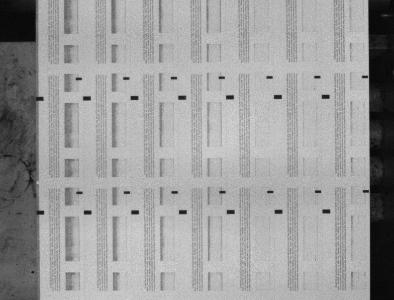backgroundclutter: (31, 271, 35, 274)
qblock: (36, 210, 45, 215), (178, 95, 187, 100), (322, 94, 330, 99), (179, 210, 188, 214), (131, 210, 140, 214), (322, 209, 331, 213), (130, 96, 139, 100), (226, 95, 235, 99), (36, 96, 43, 101), (227, 210, 235, 214), (84, 210, 92, 214), (275, 209, 283, 213), (83, 96, 91, 100), (274, 95, 282, 99)
smallqblock: (219, 190, 226, 194), (171, 76, 178, 80), (267, 190, 274, 193), (76, 191, 83, 194), (362, 75, 369, 78), (315, 190, 322, 193), (363, 190, 370, 193), (123, 77, 130, 80), (172, 191, 178, 194), (124, 191, 130, 194), (219, 76, 225, 79), (315, 75, 321, 78), (76, 77, 82, 80), (267, 76, 273, 79)
